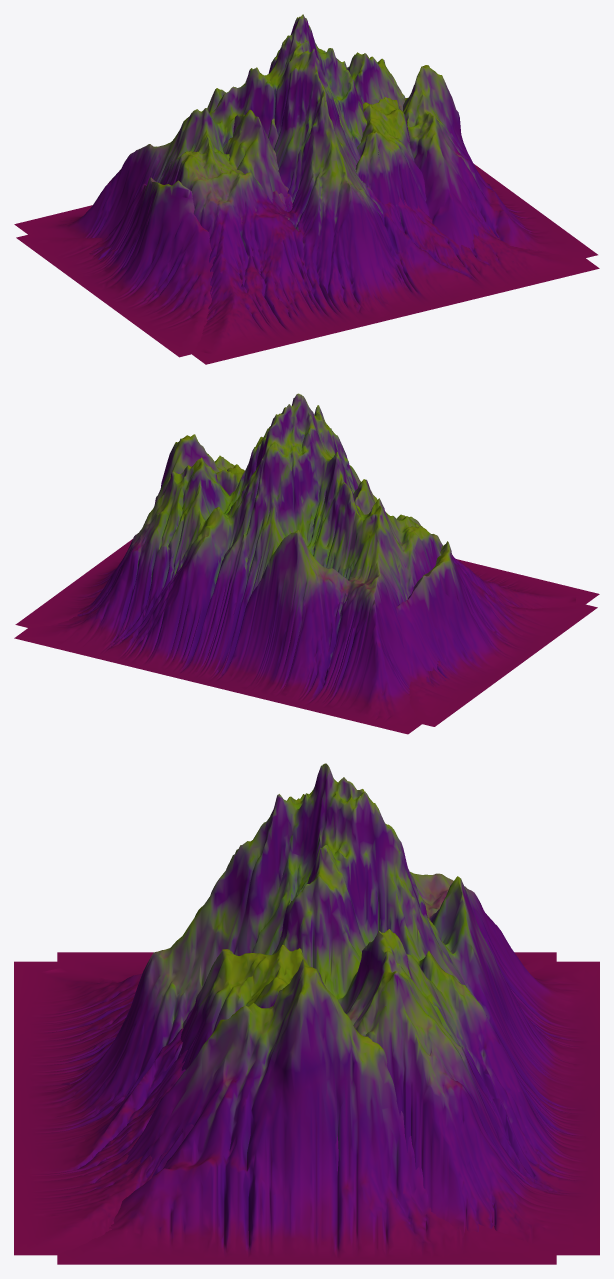
The model's file is mountains.glb.
3 renders of one model, top to bottom at view 1: azimuth 30°, elevation 25°; view 2: azimuth 150°, elevation 25°; view 3: azimuth 270°, elevation 25°, orthographic. The views are drawn at different scales.
Visible parts, largest first — view 1: Mountain_Main, Mountain_Range_L, Mountain_Range_R; view 2: Mountain_Main, Mountain_Range_L, Mountain_Range_R; view 3: Mountain_Main, Mountain_Range_L, Mountain_Range_R.
Part boxes in pixels (x1=…): Mountain_Main: x1=14, y1=14, x2=599, y2=364; Mountain_Range_L: x1=16, y1=65, x2=597, y2=357; Mountain_Range_R: x1=268, y1=97, x2=429, y2=224; Mountain_Main: x1=14, y1=393, x2=599, y2=734; Mountain_Range_L: x1=15, y1=434, x2=597, y2=726; Mountain_Range_R: x1=216, y1=464, x2=244, y2=495; Mountain_Main: x1=14, y1=763, x2=599, y2=1255; Mountain_Range_L: x1=57, y1=952, x2=556, y2=1264; Mountain_Range_R: x1=177, y1=945, x2=308, y2=1070.
Bounding box in the file's own units: 3400 × 1758 × 2695.
